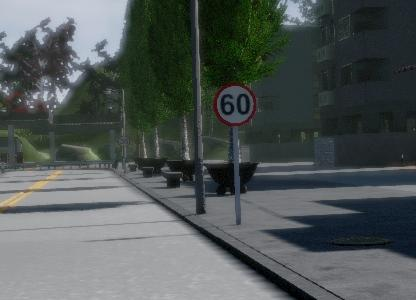Speed_60: (263, 70, 310, 123)
